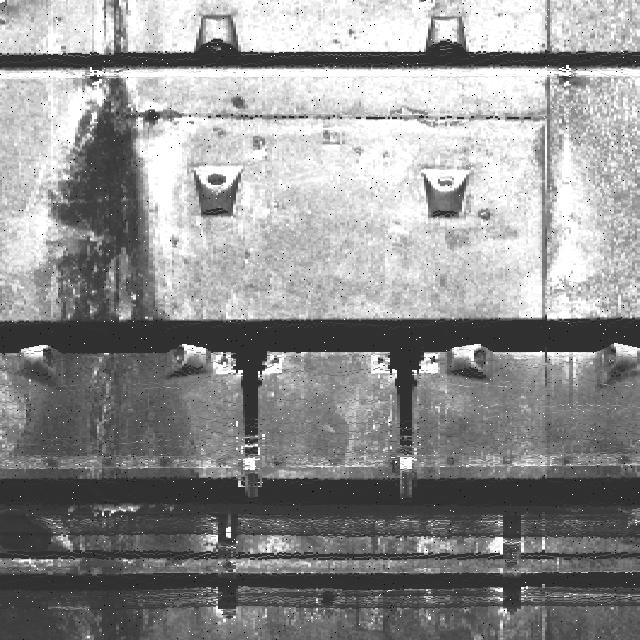leakage: (1, 30, 217, 639)
